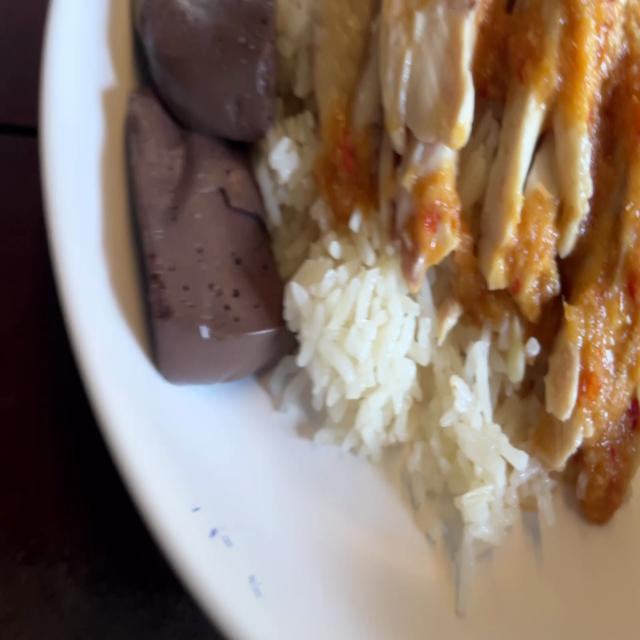chicken_rice: (303, 0, 640, 466)
noodle: (124, 0, 286, 388)
